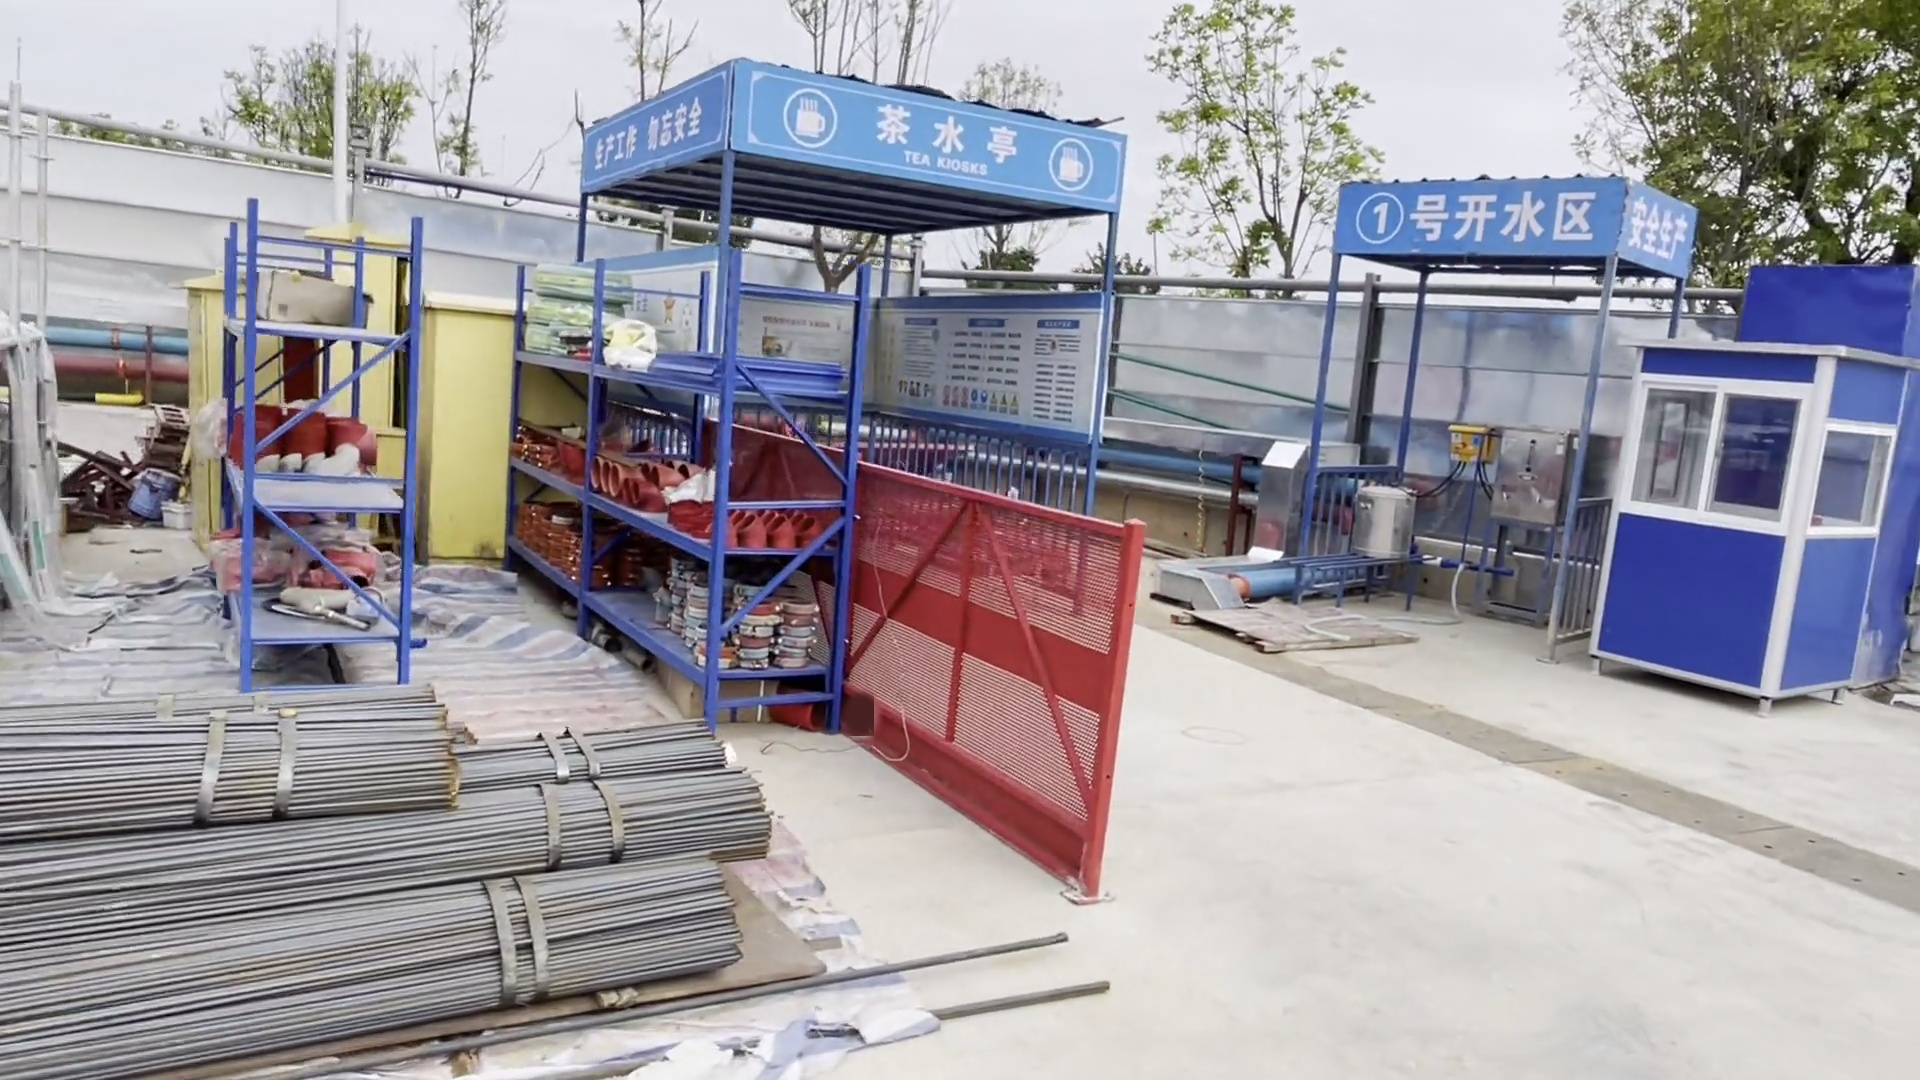ebox: (195, 225, 498, 554), (1448, 419, 1490, 463)
fence: (845, 454, 1130, 903)
rebar: (4, 700, 785, 1064)
slogan: (575, 73, 727, 189), (1615, 196, 1710, 262)
